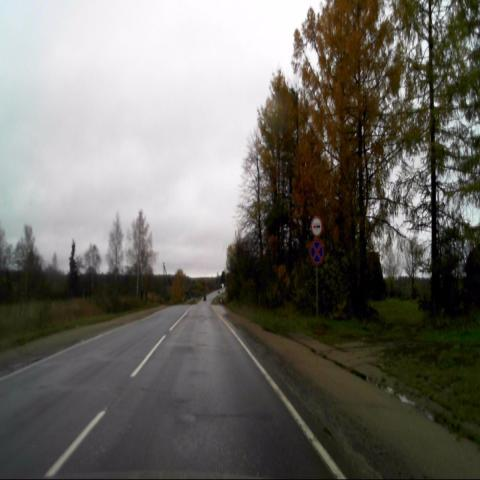3_20: (310, 216, 323, 237)
3_27: (308, 236, 326, 266)
